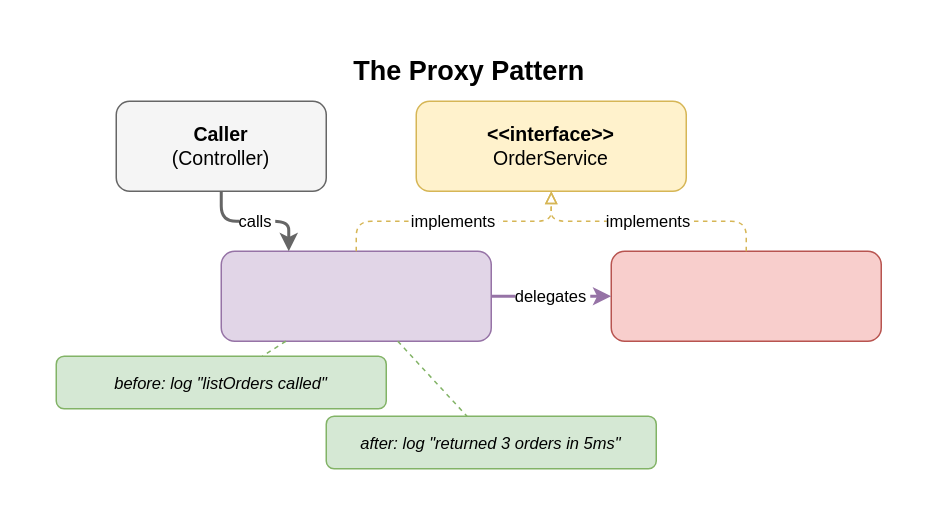
Image size: 936x516. Some labels were removed from this diagram. Each missing label, with the centre of its shape:
"Proxy LoggingOrderService" goes at (x=355, y=295).
"Real Object OrderServiceImpl" goes at (x=745, y=295).
